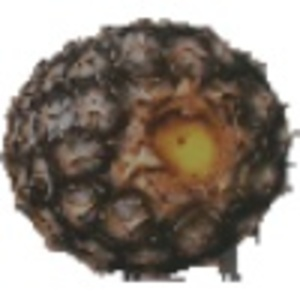abacaxi: (8, 11, 281, 272)
